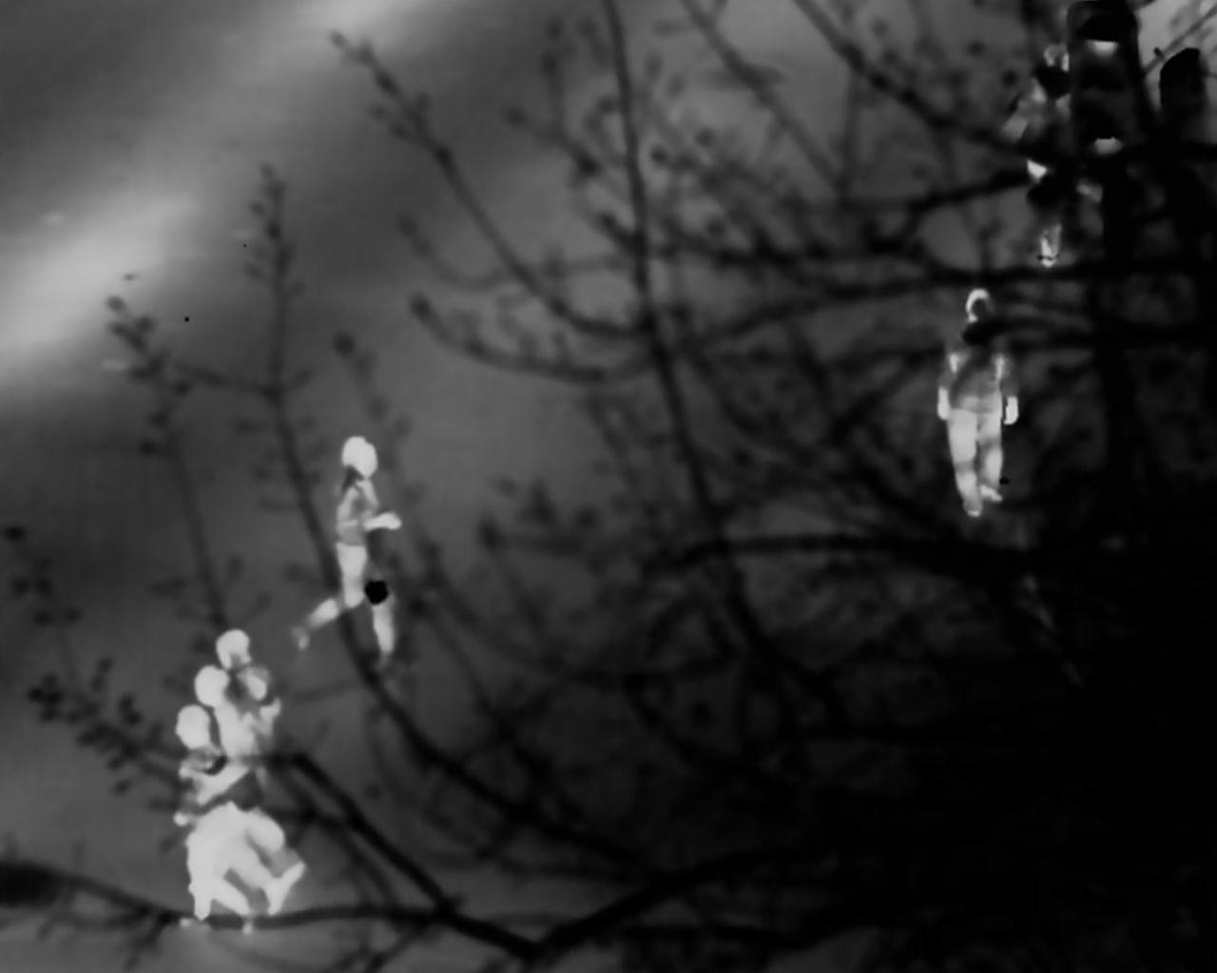person: (181, 628, 313, 887), (298, 431, 415, 660), (195, 667, 292, 914), (173, 702, 267, 937), (938, 285, 1016, 512)
